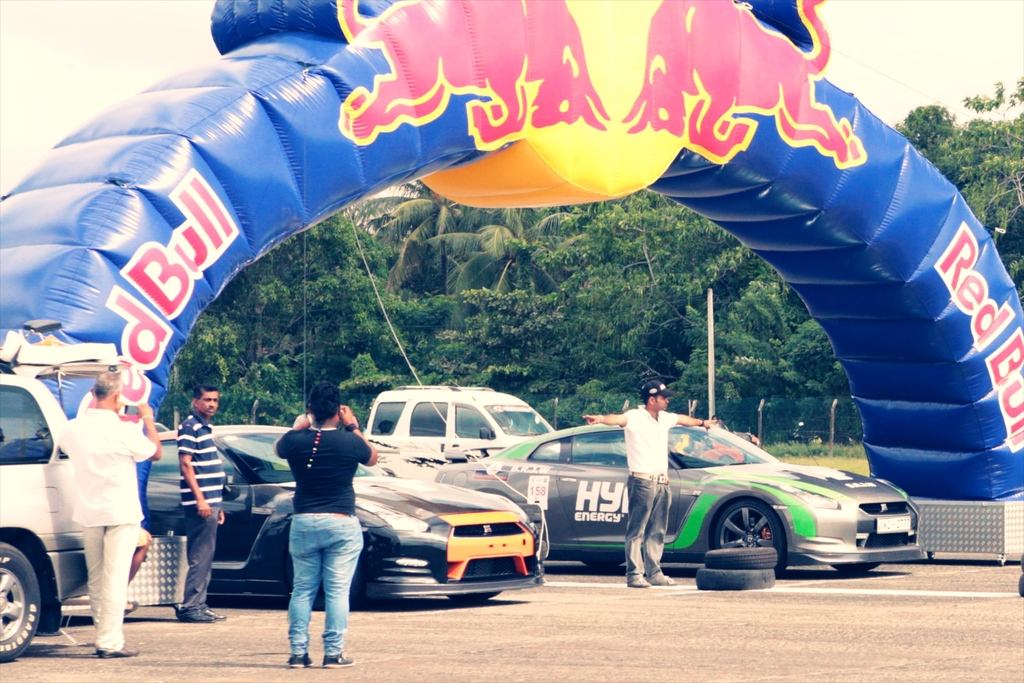Car: (432, 424, 925, 576), (147, 424, 546, 611), (0, 329, 122, 664)
